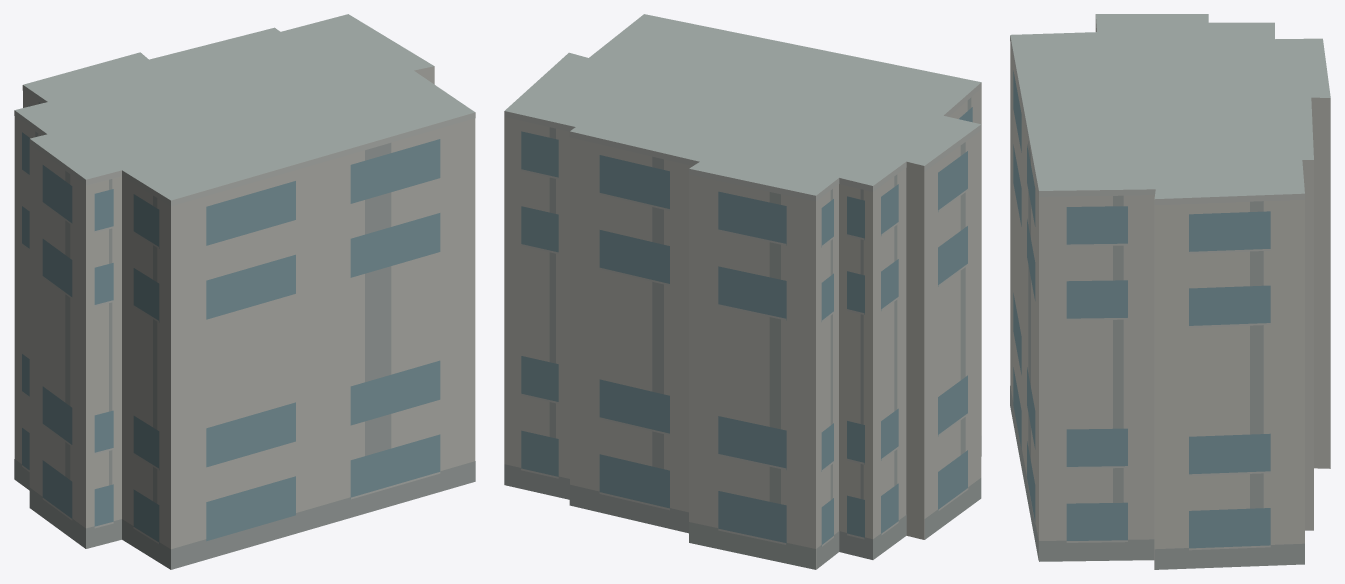
Rendered from survey-upis-32814906.glb.
The picture shows the model from 3 angles, left to right: view 1: azimuth 30°, elevation 25°; view 2: azimuth 150°, elevation 25°; view 3: azimuth 270°, elevation 25°; orthographic projection.
Parts seen in each view (by area): view 1: survey-upis-32814906.tmp; view 2: survey-upis-32814906.tmp; view 3: survey-upis-32814906.tmp.
Part boxes in pixels (left/top/right/bottom): survey-upis-32814906.tmp: left=14, top=14, right=475, bottom=569; survey-upis-32814906.tmp: left=504, top=14, right=981, bottom=569; survey-upis-32814906.tmp: left=1010, top=14, right=1330, bottom=569.
Bounding box in the file's own units: 16.3 × 15.2 × 11.93.
